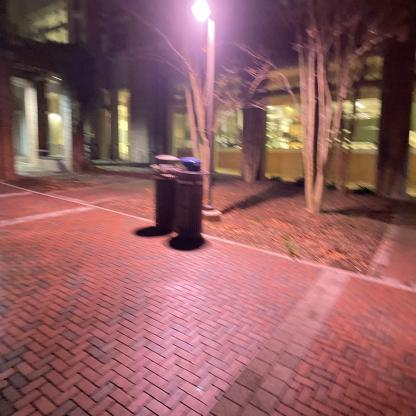eb2: (3, 4, 416, 226)
